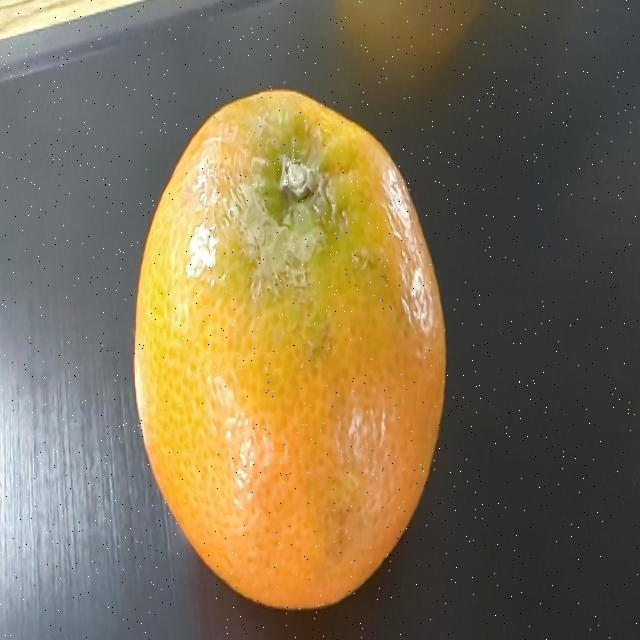Jeruk Mandarin: (136, 81, 450, 634)
